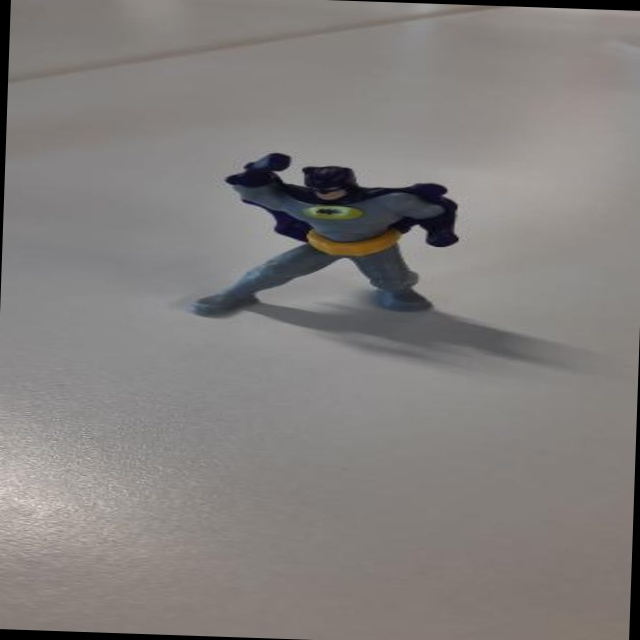Batman: (173, 153, 487, 340)
